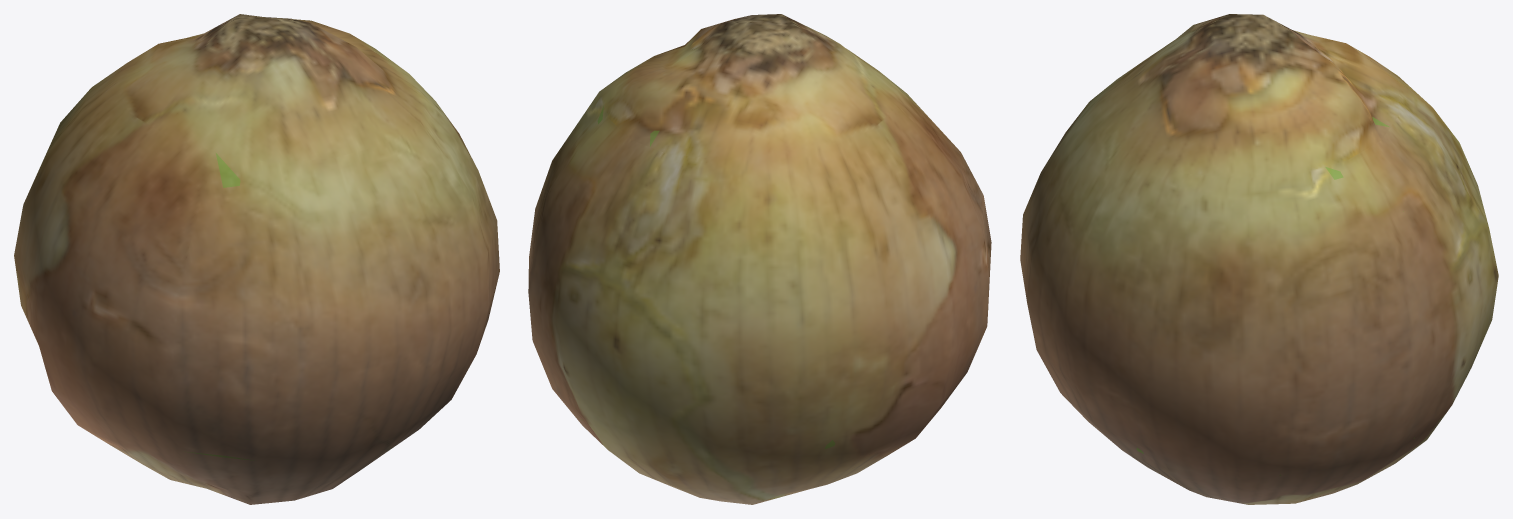
The model's file is pg_Onion_04.fbx.
The picture shows the model from 3 angles, left to right: view 1: azimuth 30°, elevation 25°; view 2: azimuth 150°, elevation 25°; view 3: azimuth 270°, elevation 25°; orthographic projection. The views are drawn at different scales.
Parts seen in each view (by area): view 1: pg_Onion_04_a_LOD0; view 2: pg_Onion_04_a_LOD0; view 3: pg_Onion_04_a_LOD0.
Part boxes in pixels (x1,y1,x2,y2): pg_Onion_04_a_LOD0: [14, 14, 499, 504]; pg_Onion_04_a_LOD0: [528, 14, 991, 504]; pg_Onion_04_a_LOD0: [1020, 14, 1498, 504].
Size of what is drawn, in the model's own units: 8.16 by 8.76 by 8.12.
